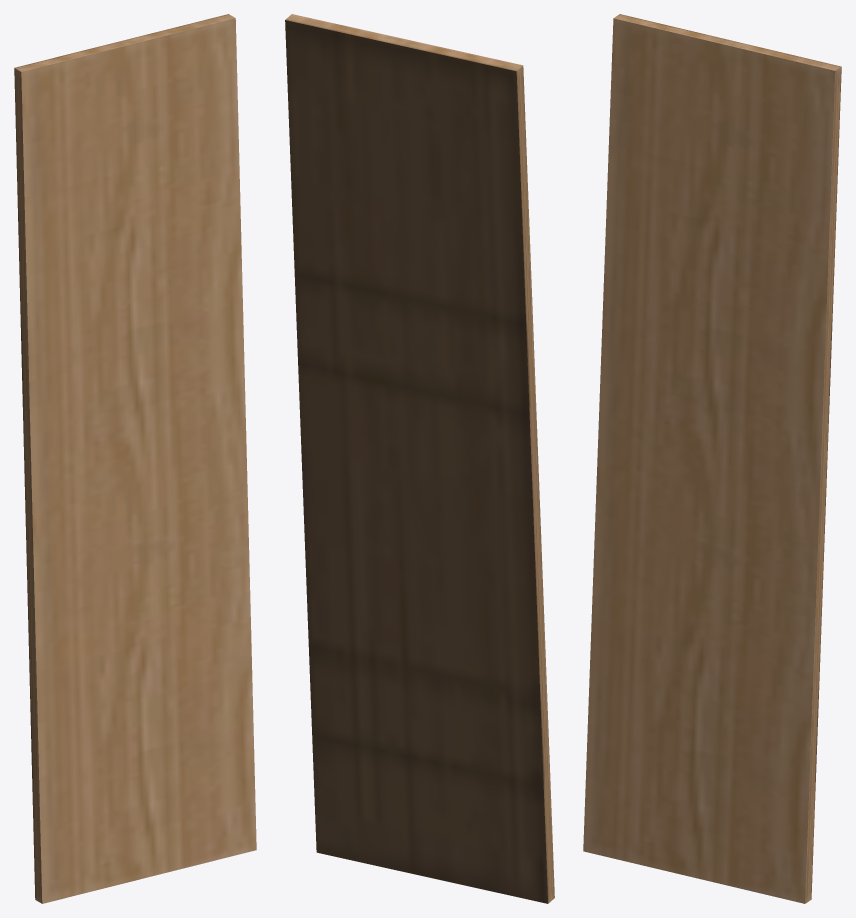
File: Map_Furniture_103.fbx
The picture shows the model from 3 angles, left to right: view 1: azimuth 30°, elevation 25°; view 2: azimuth 150°, elevation 25°; view 3: azimuth 330°, elevation 25°; orthographic projection. The views are drawn at different scales.
Parts seen in each view (by area): view 1: Map_Furniture_103; view 2: Map_Furniture_103; view 3: Map_Furniture_103.
Boxes of the visible parts, box(x1,y1,x2,y2) form: Map_Furniture_103: box(14, 14, 256, 903); Map_Furniture_103: box(285, 14, 554, 903); Map_Furniture_103: box(583, 14, 841, 903).
Size of the model in its own units: 0.7224 by 2.53 by 0.1997.
